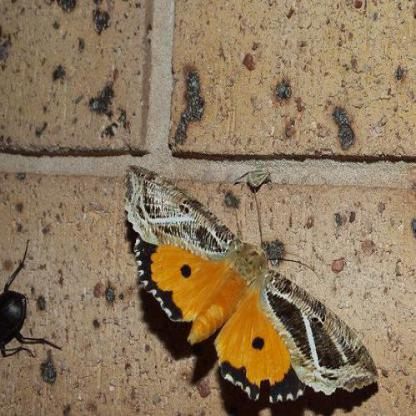fruit sucking moth: (121, 164, 381, 402)
